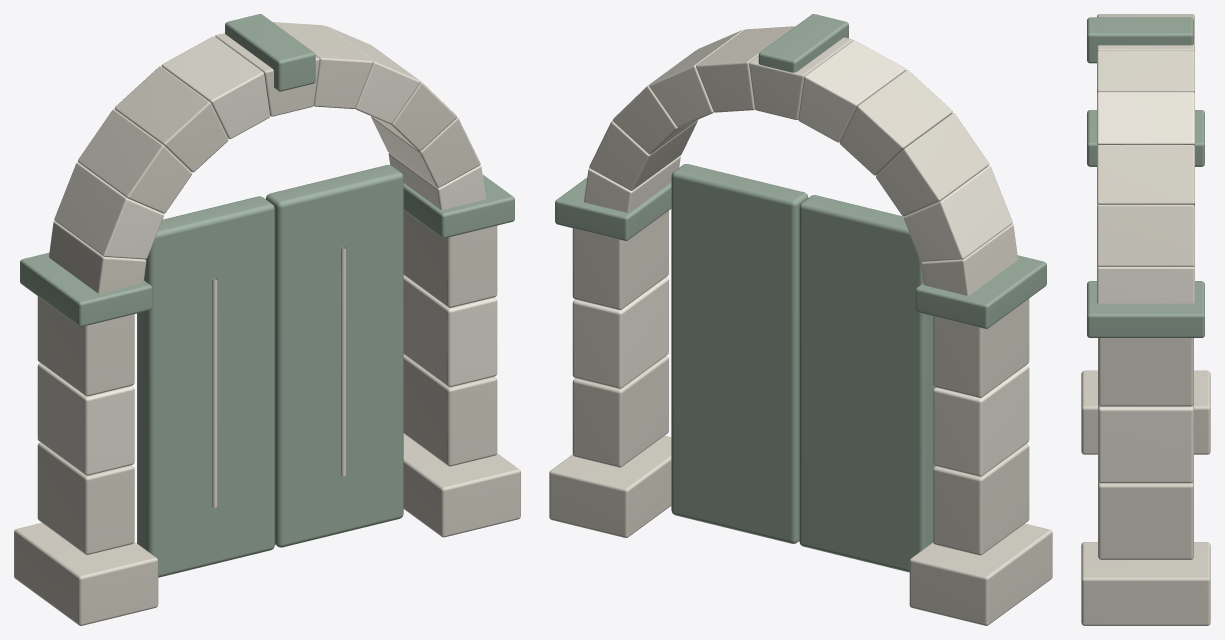
Rendered from BG_MEC_SURFACE_GATE_001.glb.
The picture shows the model from 3 angles, left to right: view 1: azimuth 30°, elevation 25°; view 2: azimuth 150°, elevation 25°; view 3: azimuth 270°, elevation 25°; orthographic projection. The views are drawn at different scales.
Parts seen in each view (by area): view 1: Moving leaf segment 0, Moving leaf segment 0.001, Dressed frame foot -1, Dressed frame foot 1, Frame pier -1 0, Frame pier -1 1, Frame pier 1 0, Frame pier 1 1, Frame pier -1 2, Frame pier 1 2, Frame vault 8, Frame vault 7 (+14 smaller); view 2: Moving leaf segment 0.001, Moving leaf segment 0, Dressed frame foot -1, Dressed frame foot 1, Frame pier -1 0, Frame pier 1 1, Frame pier 1 0, Frame pier -1 1, Frame pier 1 2, Frame pier -1 2, Frame vault 8, Frame vault 7 (+12 smaller); view 3: Dressed frame foot 1, Frame pier 1 1, Frame pier 1 0, Frame pier 1 2, Frame vault 1, Frame vault 2, Frame vault 3, Frame impost 1, Frame vault 4, Frame vault 0, Quiet keystone, Dressed frame foot -1 (+3 smaller).
Boxes of the visible parts, bbox=[...] form: Moving leaf segment 0: bbox=[137, 196, 274, 577]; Moving leaf segment 0.001: bbox=[266, 165, 403, 547]; Dressed frame foot -1: bbox=[14, 523, 158, 625]; Dressed frame foot 1: bbox=[403, 434, 520, 537]; Frame pier -1 0: bbox=[37, 442, 134, 554]; Frame pier -1 1: bbox=[37, 363, 134, 475]; Frame pier 1 0: bbox=[403, 354, 497, 466]; Frame pier 1 1: bbox=[403, 275, 497, 387]; Frame pier -1 2: bbox=[37, 296, 134, 396]; Frame pier 1 2: bbox=[403, 210, 497, 307]; Frame vault 8: bbox=[78, 109, 191, 213]; Frame vault 7: bbox=[114, 66, 228, 172]; Moving leaf segment 0.001: bbox=[671, 164, 808, 543]; Moving leaf segment 0: bbox=[799, 195, 935, 572]; Dressed frame foot -1: bbox=[909, 523, 1052, 625]; Dressed frame foot 1: bbox=[549, 435, 671, 537]; Frame pier -1 0: bbox=[933, 443, 1029, 555]; Frame pier 1 1: bbox=[572, 277, 668, 388]; Frame pier 1 0: bbox=[572, 356, 668, 467]; Frame pier -1 1: bbox=[933, 365, 1029, 476]; Frame pier 1 2: bbox=[572, 210, 668, 309]; Frame pier -1 2: bbox=[933, 298, 1029, 397]; Frame vault 8: bbox=[876, 113, 989, 216]; Frame vault 7: bbox=[839, 70, 952, 175]; Dressed frame foot 1: bbox=[1081, 542, 1210, 625]; Frame pier 1 1: bbox=[1098, 404, 1193, 483]; Frame pier 1 0: bbox=[1098, 480, 1193, 559]; Frame pier 1 2: bbox=[1098, 338, 1193, 406]; Frame vault 1: bbox=[1097, 204, 1194, 266]; Frame vault 2: bbox=[1097, 145, 1194, 205]; Frame vault 3: bbox=[1097, 92, 1194, 146]; Frame impost 1: bbox=[1087, 281, 1204, 337]; Frame vault 4: bbox=[1097, 50, 1194, 93]; Frame vault 0: bbox=[1097, 265, 1194, 303]; Quiet keystone: bbox=[1087, 17, 1193, 63]; Dressed frame foot -1: bbox=[1081, 370, 1210, 454].
Bounding box in the file's own units: 2.22 × 2.47 × 0.58.
Materials: 3 (1 with a texture image).
